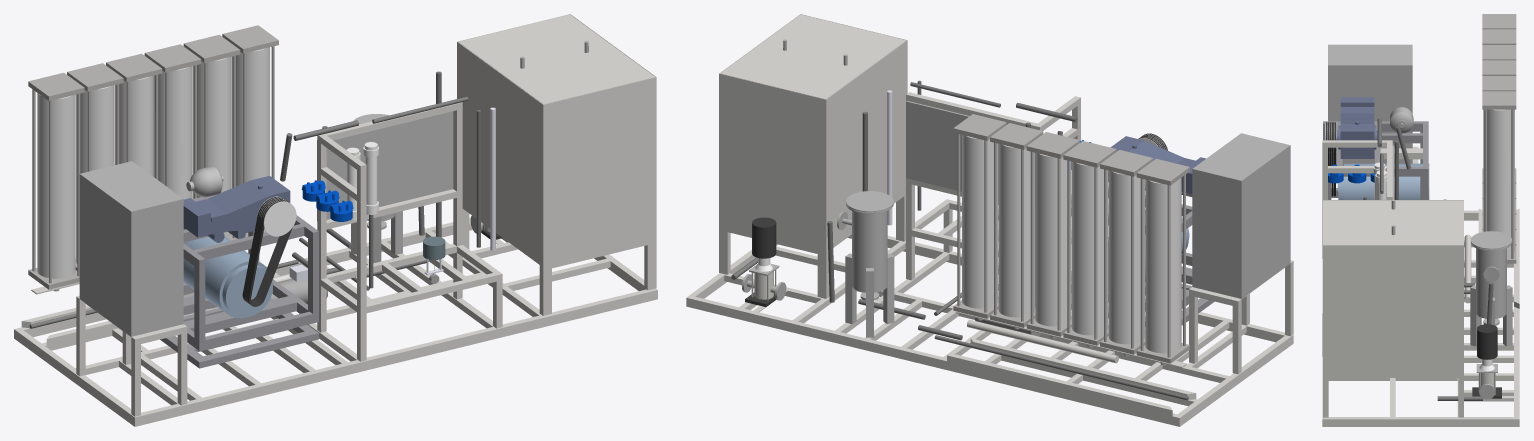
3 views of the same model, side by side, from view 1: azimuth 30°, elevation 25°; view 2: azimuth 150°, elevation 25°; view 3: azimuth 270°, elevation 25° (orthographic). The views are drawn at different scales.
Visible parts, largest first — view 1: 实体42, 实体59, 实体40, 实体48, 实体82, 实体2, 实体138, 实体178, 实体162, 实体170, 实体117, 实体118 (+45 smaller); view 2: 实体43, 实体59, 实体40, 实体48, 实体138, 实体162, 实体3, 实体146, 实体154, 实体170, 实体178, 实体82 (+41 smaller); view 3: 实体41, 实体48, 实体59, 实体178, 实体117, 实体133, 实体4, 实体93, 实体118, 实体34, 实体180, 实体3 (+34 smaller).
Boxes of the visible parts, <box> form: 实体42: <box>543,77,656,260</box>; 实体59: <box>79,161,183,336</box>; 实体40: <box>457,41,543,261</box>; 实体48: <box>458,14,655,104</box>; 实体82: <box>317,111,453,220</box>; 实体2: <box>135,289,657,426</box>; 实体138: <box>37,93,75,278</box>; 实体178: <box>231,47,269,187</box>; 实体162: <box>153,66,192,199</box>; 实体170: <box>192,57,231,237</box>; 实体117: <box>183,175,290,242</box>; 实体118: <box>183,236,272,318</box>; 实体43: <box>719,73,825,246</box>; 实体59: <box>1192,133,1290,298</box>; 实体40: <box>825,40,907,246</box>; 实体48: <box>720,14,906,99</box>; 实体138: <box>1145,178,1181,353</box>; 实体162: <box>1035,153,1071,326</box>; 实体3: <box>686,296,1179,426</box>; 实体146: <box>1108,170,1144,344</box>; 实体154: <box>1072,161,1108,335</box>; 实体170: <box>998,144,1034,317</box>; 实体178: <box>962,135,998,308</box>; 实体82: <box>906,101,1035,209</box>; 实体41: <box>1323,245,1463,372</box>; 实体48: <box>1323,200,1463,244</box>; 实体59: <box>1328,44,1412,165</box>; 实体178: <box>1483,109,1514,256</box>; 实体117: <box>1336,97,1377,158</box>; 实体133: <box>1471,241,1512,325</box>; 实体4: <box>1322,417,1519,426</box>; 实体93: <box>1472,324,1501,399</box>; 实体118: <box>1337,163,1429,199</box>; 实体34: <box>1323,373,1463,377</box>; 实体180: <box>1482,91,1516,109</box>; 实体3: <box>1514,307,1519,418</box>.
Bounding box in the file's own units: 3.5 × 1.64 × 1.4.
